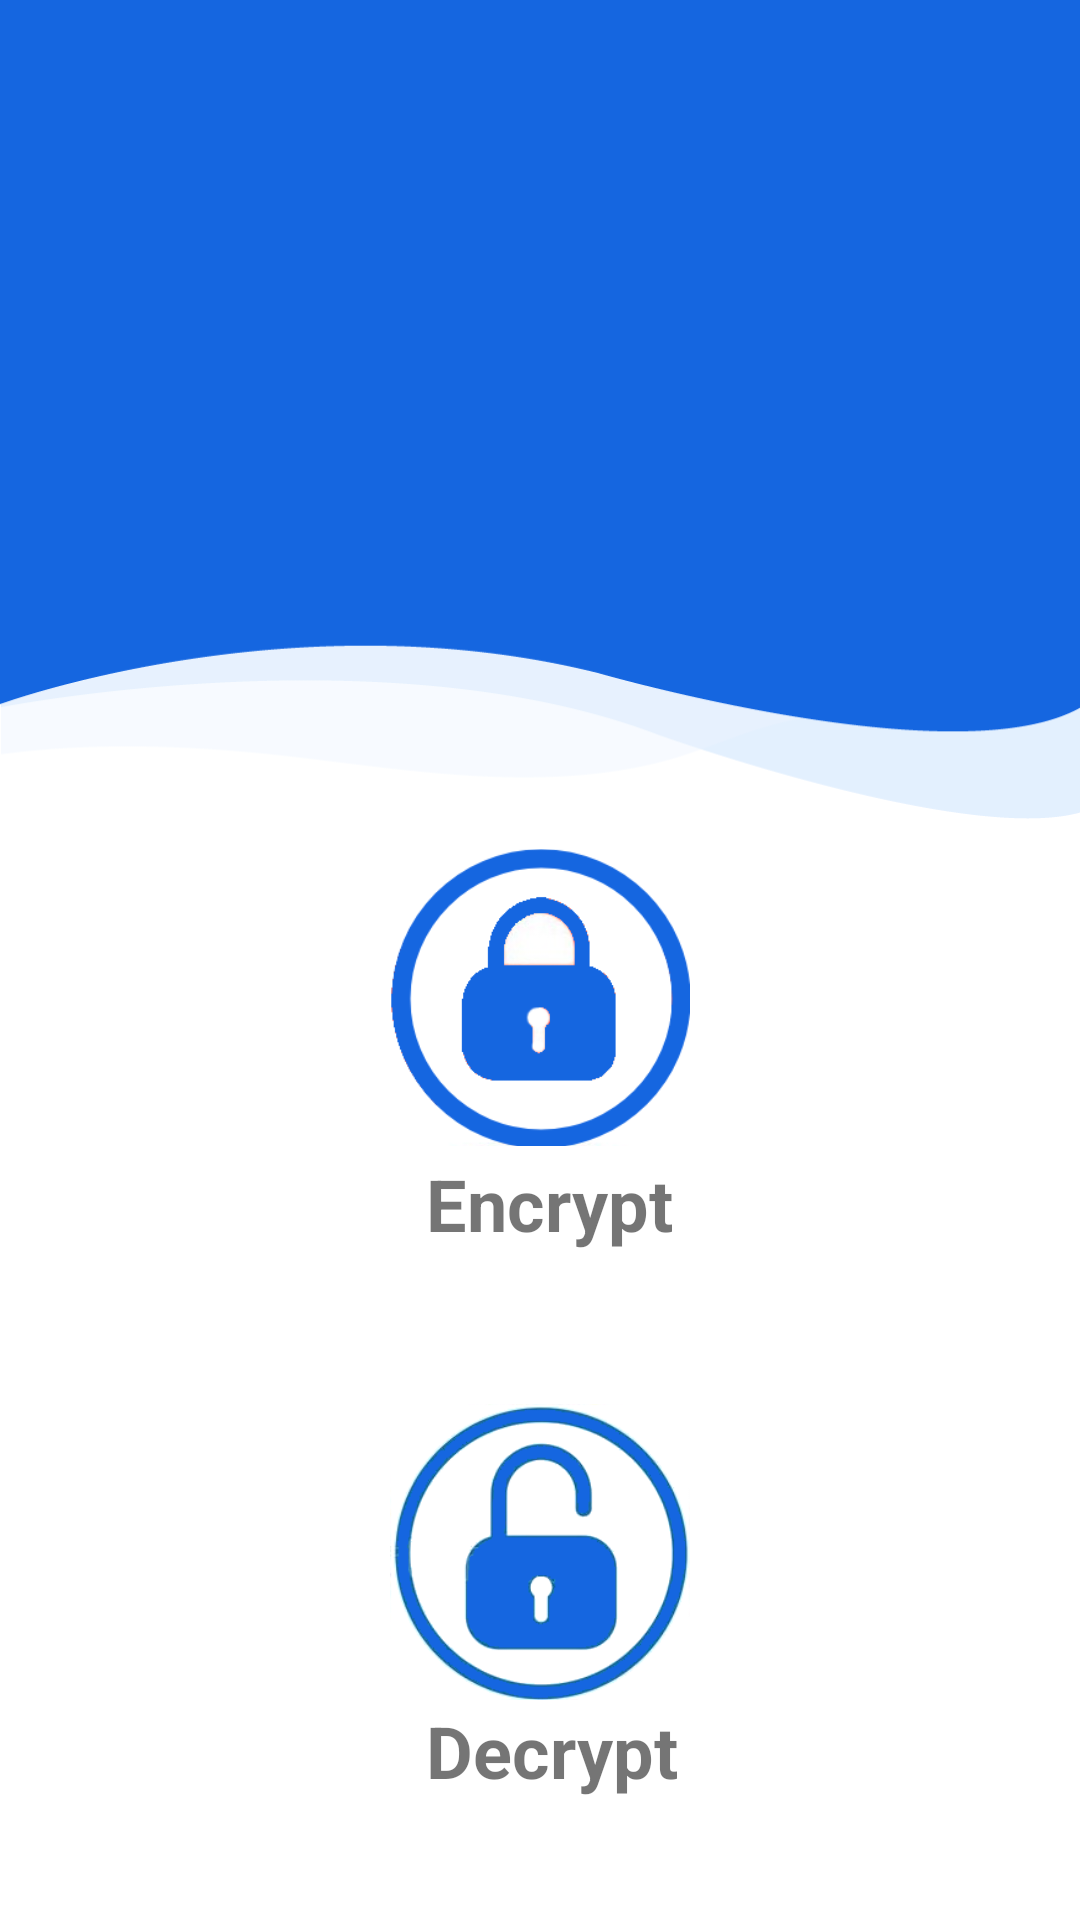

Screen size 1080w x 1920h. Icon name, then its box in pixels as (x1=x1, y1=y1, x2=x2, y2=y2):
lock: (x1=391, y1=849, x2=690, y2=1146)
unlock: (x1=394, y1=1407, x2=688, y2=1700)
